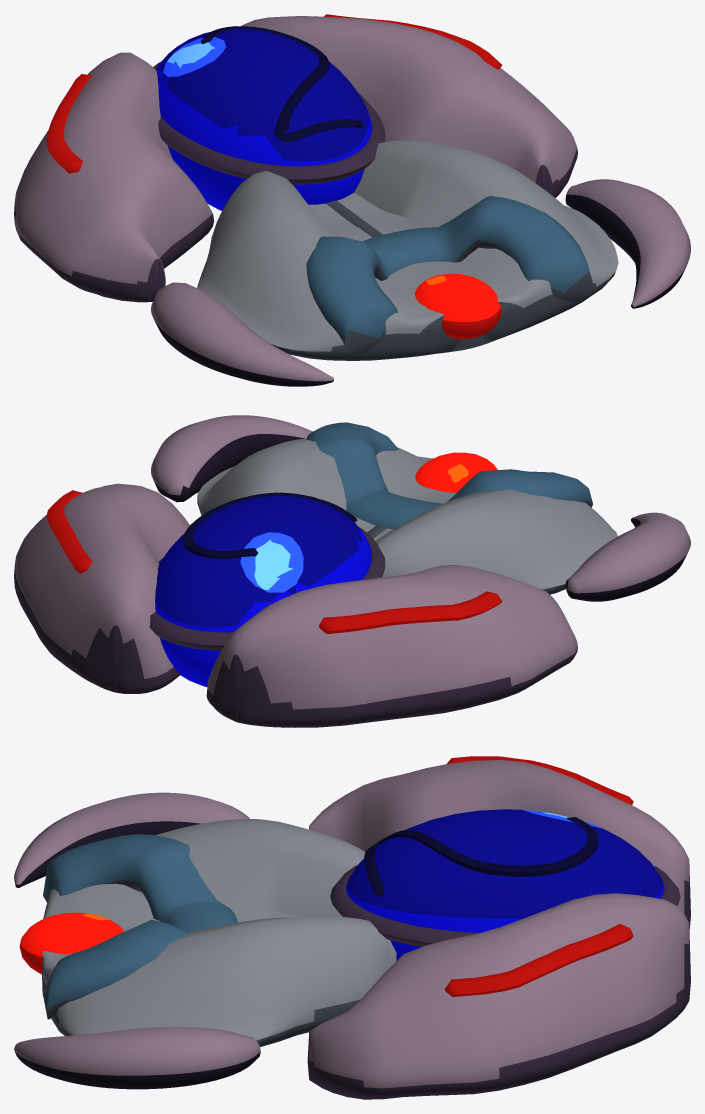
The model's file is swirl_machine.glb.
The picture shows the model from 3 angles, top to bottom: view 1: azimuth 30°, elevation 25°; view 2: azimuth 150°, elevation 25°; view 3: azimuth 270°, elevation 25°; orthographic projection. The views are drawn at different scales.
Visible parts, largest first — view 1: body, wing_l, wing_r, orb, cowl, claw_l, claw_r, orb_rim, tip, swirl, streak_l, streak_r (+1 smaller); view 2: wing_l, body, wing_r, orb, cowl, claw_r, claw_l, streak_l, orb_rim, tip, swirl, streak_r; view 3: wing_r, body, orb, wing_l, cowl, claw_r, claw_l, streak_r, tip, swirl, orb_rim, streak_l.
Part boxes in pixels (x1,y1,x2,y2): body: (197, 139, 618, 360); wing_l: (14, 52, 214, 302); wing_r: (241, 16, 577, 197); orb: (155, 29, 371, 210); cowl: (306, 196, 592, 354); claw_l: (151, 282, 333, 386); claw_r: (565, 179, 690, 308); orb_rim: (153, 62, 385, 184); tip: (415, 273, 501, 339); swirl: (201, 26, 363, 141); streak_l: (46, 74, 92, 173); streak_r: (324, 14, 502, 69); wing_l: (206, 565, 577, 727); body: (197, 438, 617, 594); wing_r: (14, 483, 189, 693); orb: (155, 496, 371, 686); cowl: (306, 422, 592, 529); claw_r: (151, 415, 312, 502); claw_l: (565, 512, 690, 601); streak_l: (319, 591, 502, 633); orb_rim: (149, 527, 385, 650); tip: (415, 452, 497, 492); swirl: (183, 492, 357, 558); streak_r: (46, 490, 92, 573); wing_r: (307, 893, 690, 1099); body: (42, 819, 396, 1046); orb: (346, 809, 664, 960); wing_l: (309, 760, 690, 928); cowl: (43, 834, 237, 1019); claw_r: (14, 1026, 260, 1089); claw_l: (14, 792, 249, 887); streak_r: (445, 924, 633, 996); tip: (19, 912, 123, 974); swirl: (364, 817, 598, 896); orb_rim: (330, 865, 680, 946); streak_l: (446, 756, 633, 804).
Size of the model in its own units: 24 by 7 by 24.81.
